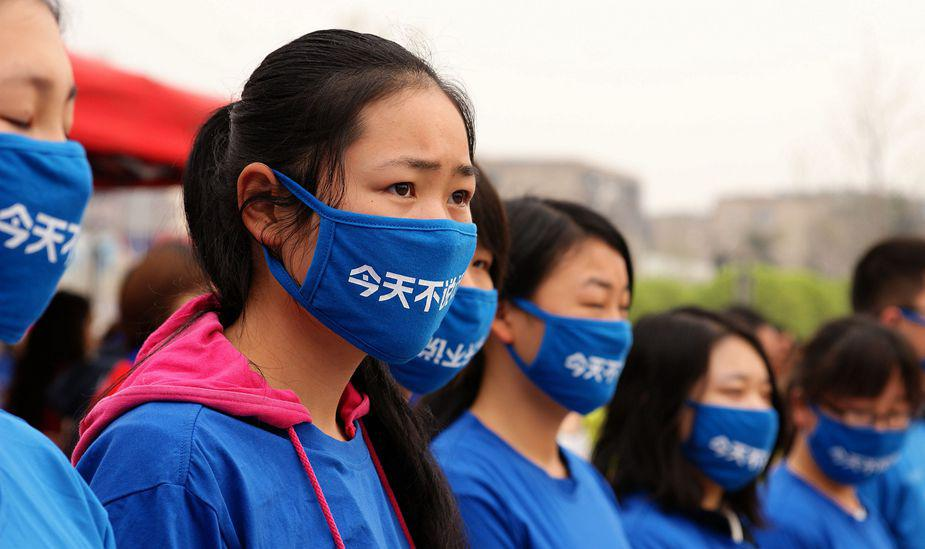OK: (292, 137, 475, 363), (1, 72, 100, 349), (375, 215, 500, 390), (514, 263, 639, 409), (674, 353, 780, 483), (821, 378, 905, 482)
